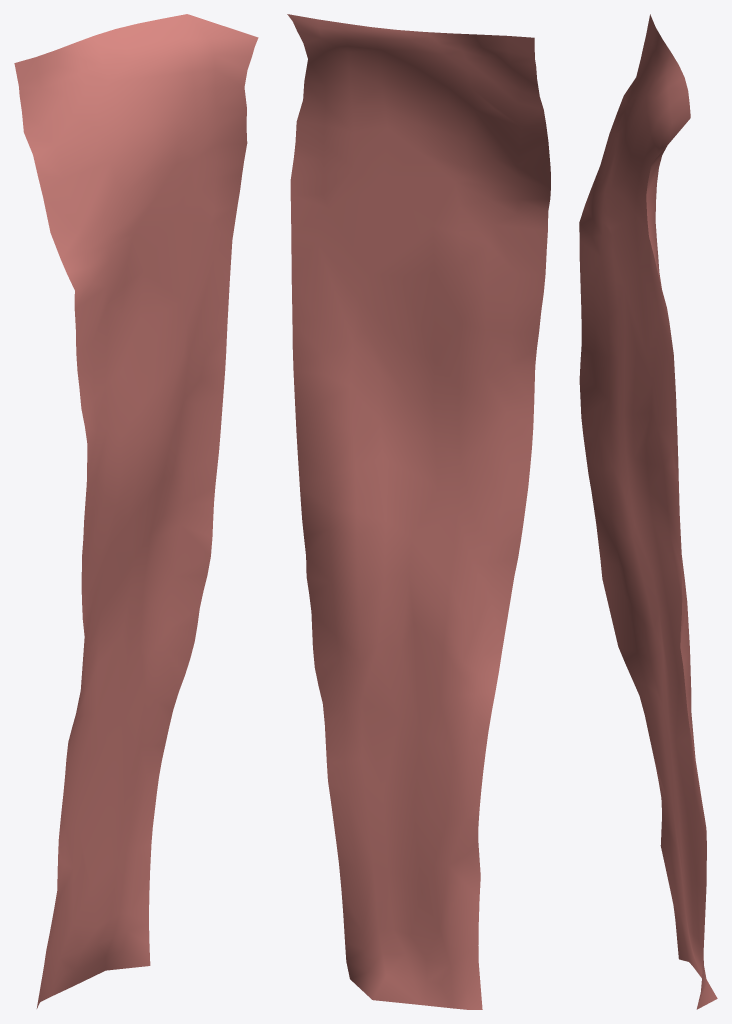
3 renders of one model, left to right at view 1: azimuth 30°, elevation 25°; view 2: azimuth 150°, elevation 25°; view 3: azimuth 270°, elevation 25°, orthographic. The views are drawn at different scales.
Visible parts, largest first — view 1: ZA_6f5bcfb64b2da9de; view 2: ZA_6f5bcfb64b2da9de; view 3: ZA_6f5bcfb64b2da9de.
Part boxes in pixels (x1,y1,x2,y2): ZA_6f5bcfb64b2da9de: (14,14,258,1008); ZA_6f5bcfb64b2da9de: (287,14,550,1009); ZA_6f5bcfb64b2da9de: (579,14,717,1009).
Size of the model in its own units: 0.0776 by 0.292 by 0.0395.
